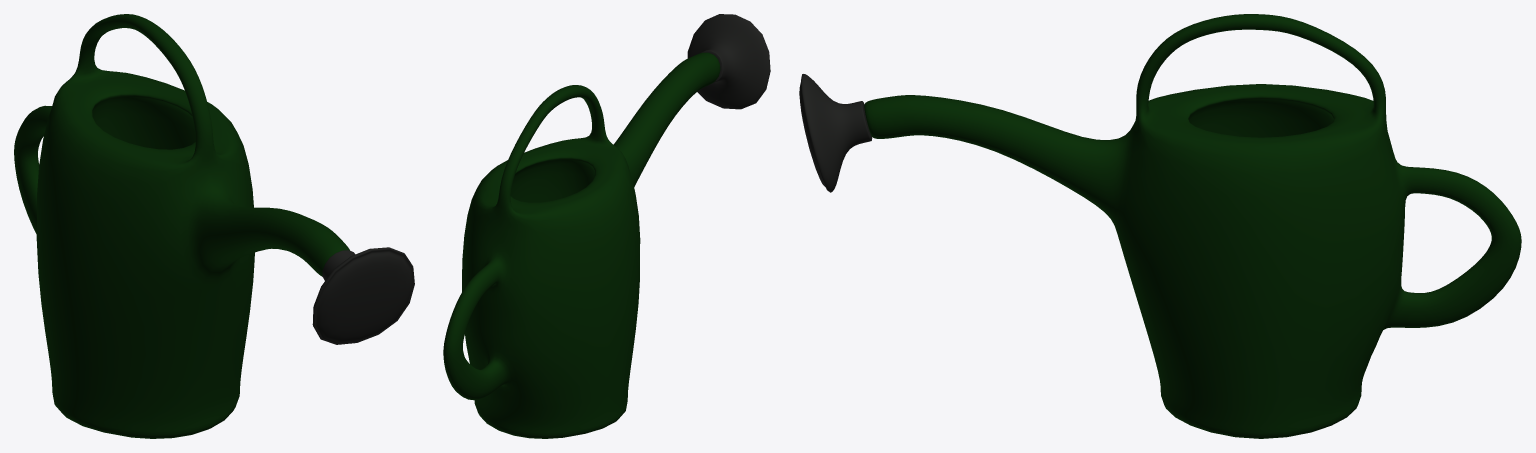
The model's file is WateringCan-1.fbx.
The picture shows the model from 3 angles, left to right: view 1: azimuth 30°, elevation 25°; view 2: azimuth 150°, elevation 25°; view 3: azimuth 270°, elevation 25°; orthographic projection. The views are drawn at different scales.
Parts seen in each view (by area): view 1: WateringCanBody; view 2: WateringCanBody; view 3: WateringCanBody.
Boxes of the visible parts, box(x1,y1,x2,y2) form: WateringCanBody: box(14, 14, 414, 438); WateringCanBody: box(443, 14, 770, 438); WateringCanBody: box(799, 14, 1521, 438).
Size of what is drawn, in the model's own units: 204 by 413 by 690.
